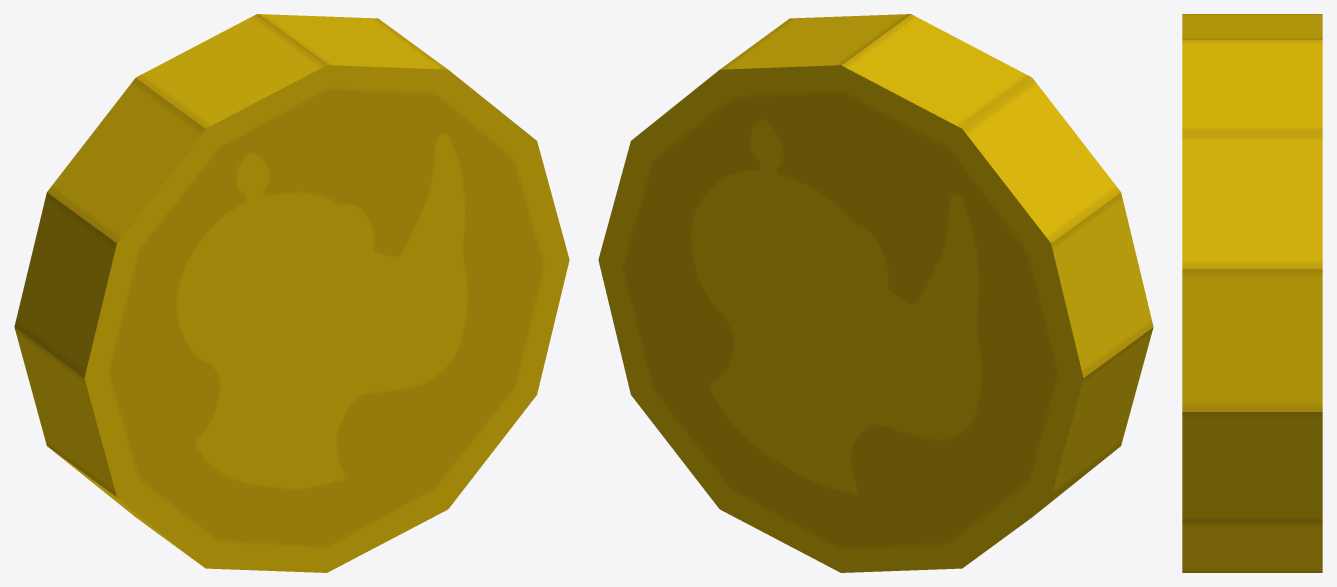
File: Rhino_Head_Coin.fbx
3 views of the same model, side by side, from view 1: azimuth 30°, elevation 25°; view 2: azimuth 150°, elevation 25°; view 3: azimuth 270°, elevation 25° (orthographic).
Visible parts, largest first — view 1: Rhiino_Coin; view 2: Rhiino_Coin; view 3: Rhiino_Coin.
Part boxes in pixels (x1,y1,x2,y2): Rhiino_Coin: (14,14,569,572); Rhiino_Coin: (598,14,1153,572); Rhiino_Coin: (1182,14,1322,572).
Size of the model in its own units: 100 by 100 by 25.
1 material, 1 textured.
